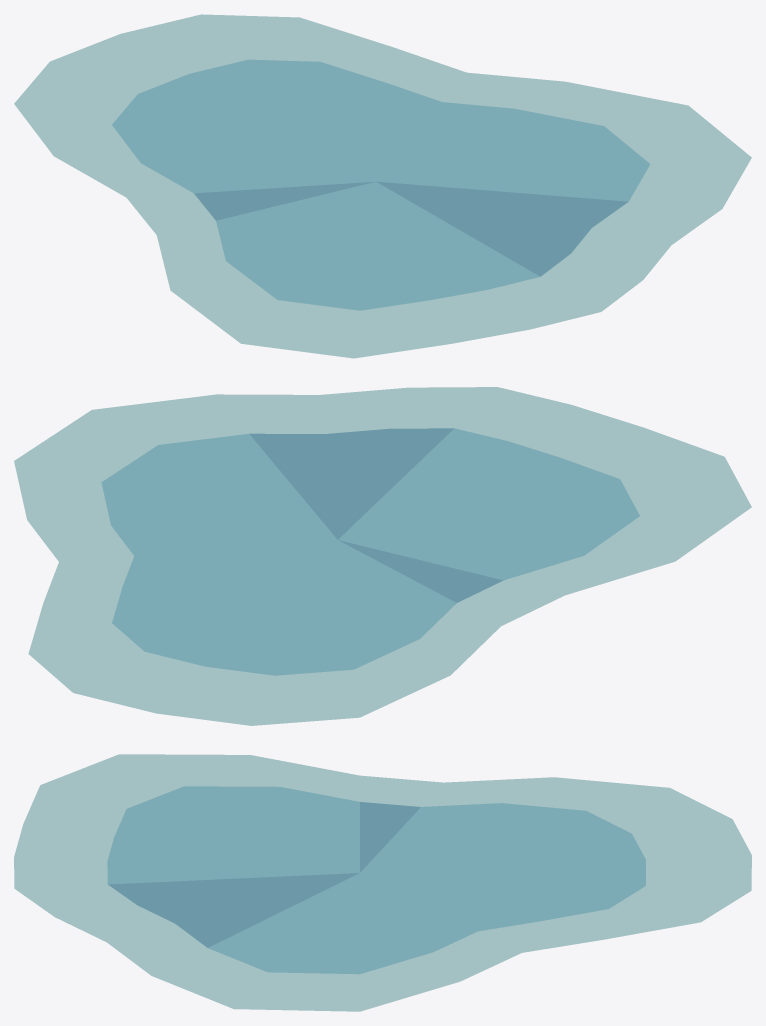
Rendered from puddle-b.glb.
3 views of the same model, one above another, from view 1: azimuth 30°, elevation 25°; view 2: azimuth 150°, elevation 25°; view 3: azimuth 270°, elevation 25° (orthographic). The views are drawn at different scales.
Visible parts, largest first — view 1: puddle-b; view 2: puddle-b; view 3: puddle-b.
Boxes of the visible parts, x1,y1,x2,y2 form: puddle-b: [14, 14, 751, 358]; puddle-b: [14, 387, 751, 725]; puddle-b: [14, 754, 751, 1011].
Bounding box in the file's own units: 2.29 × 0 × 2.77.
1 material, 1 textured.
